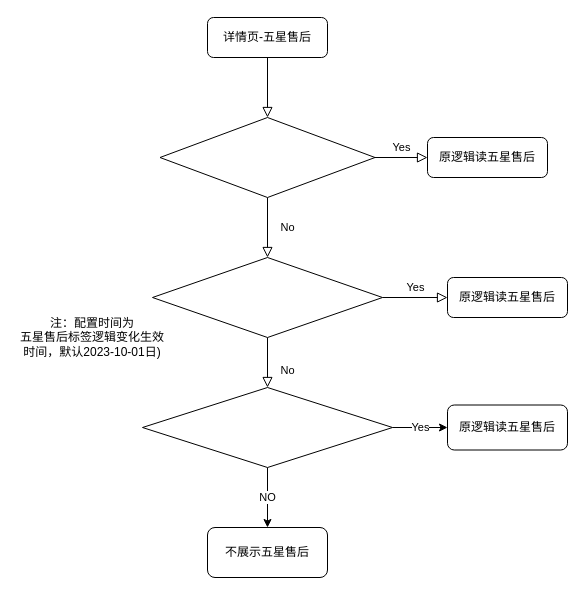
Image size: 585x595. Some labels were removed from this diagram. Each missing label, with the centre of its shape:
topActivityEditT imestamp < 配置时间: point (267, 297)
topActivityEditT imestamp == null: point (267, 157)
团长承诺 != NULL: point (267, 427)
